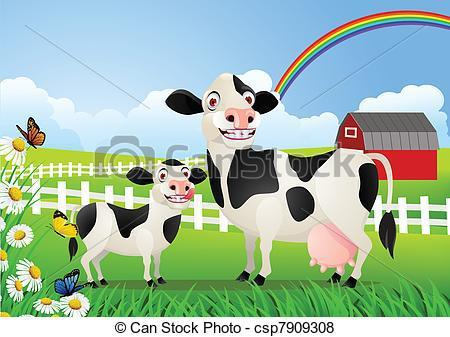cow: (164, 67, 398, 289), (65, 156, 207, 296)
